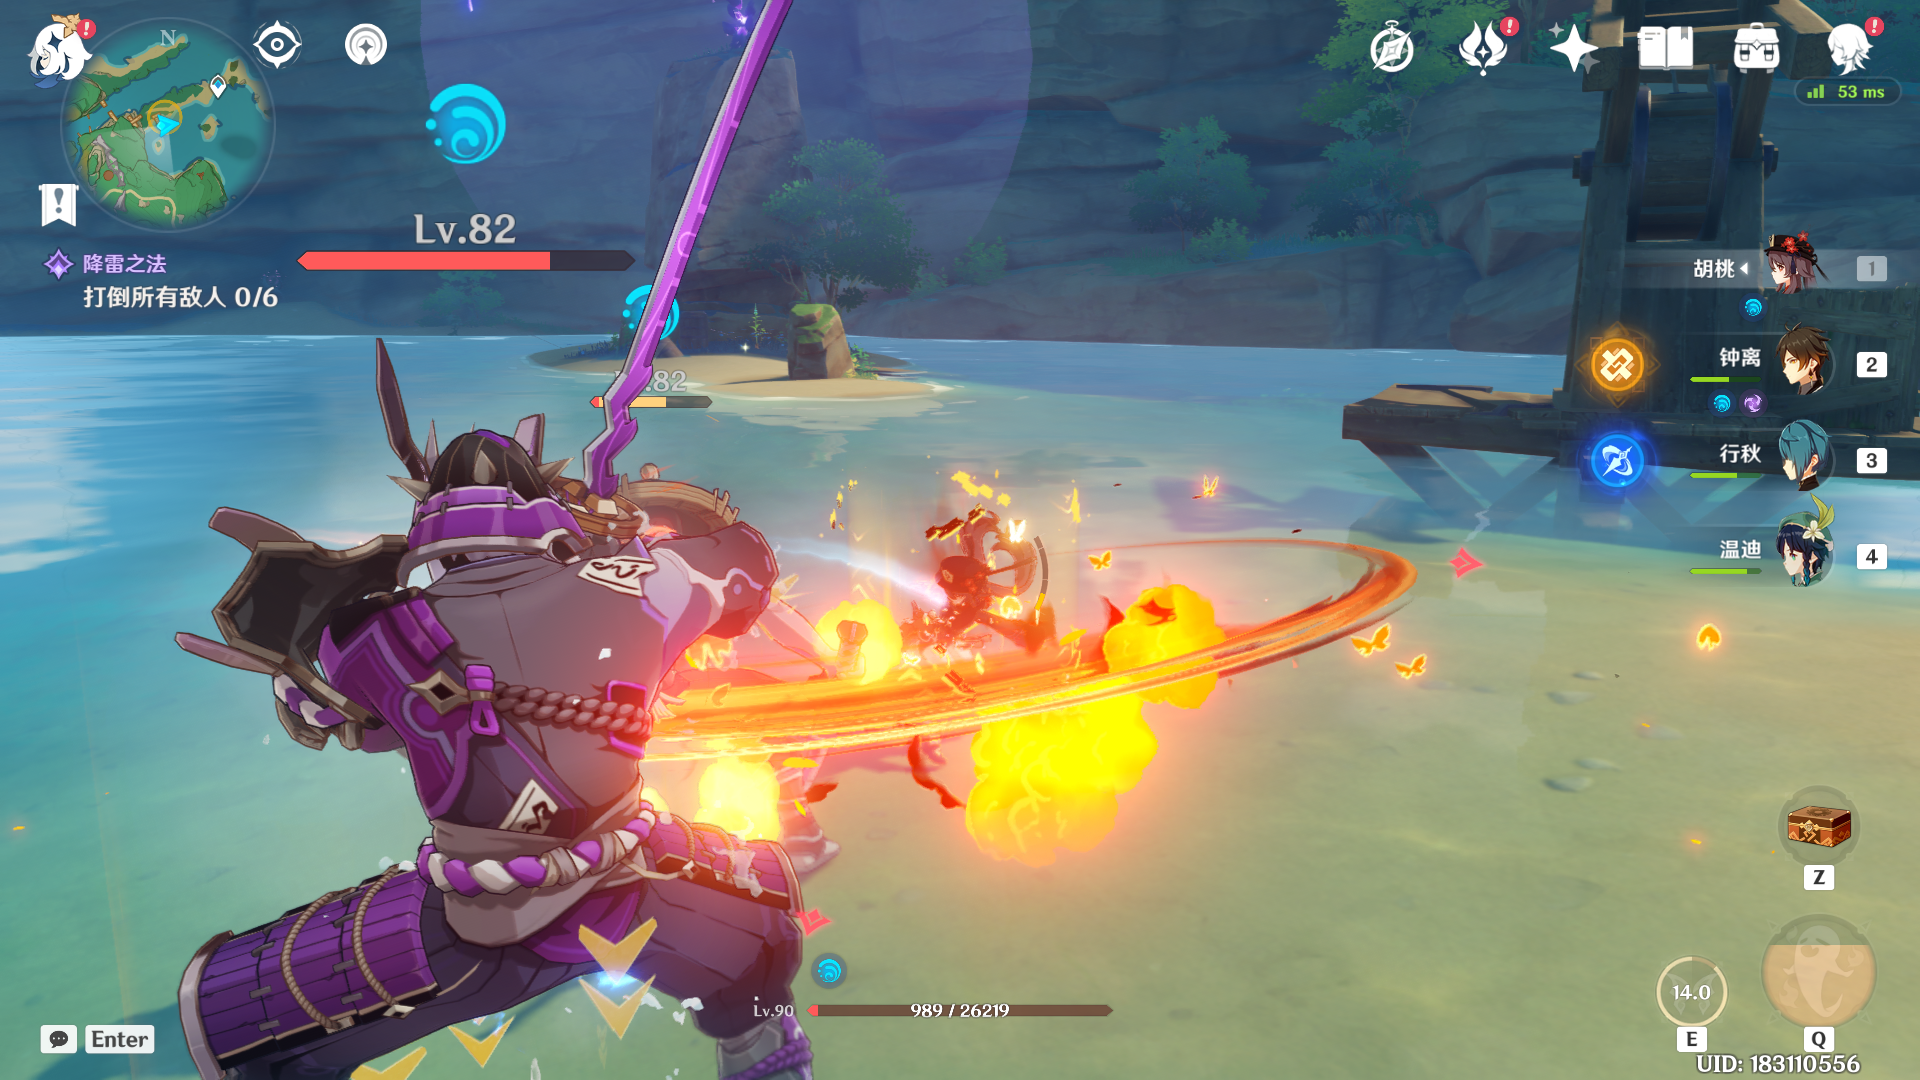samurai: (152, 306, 884, 1080)
